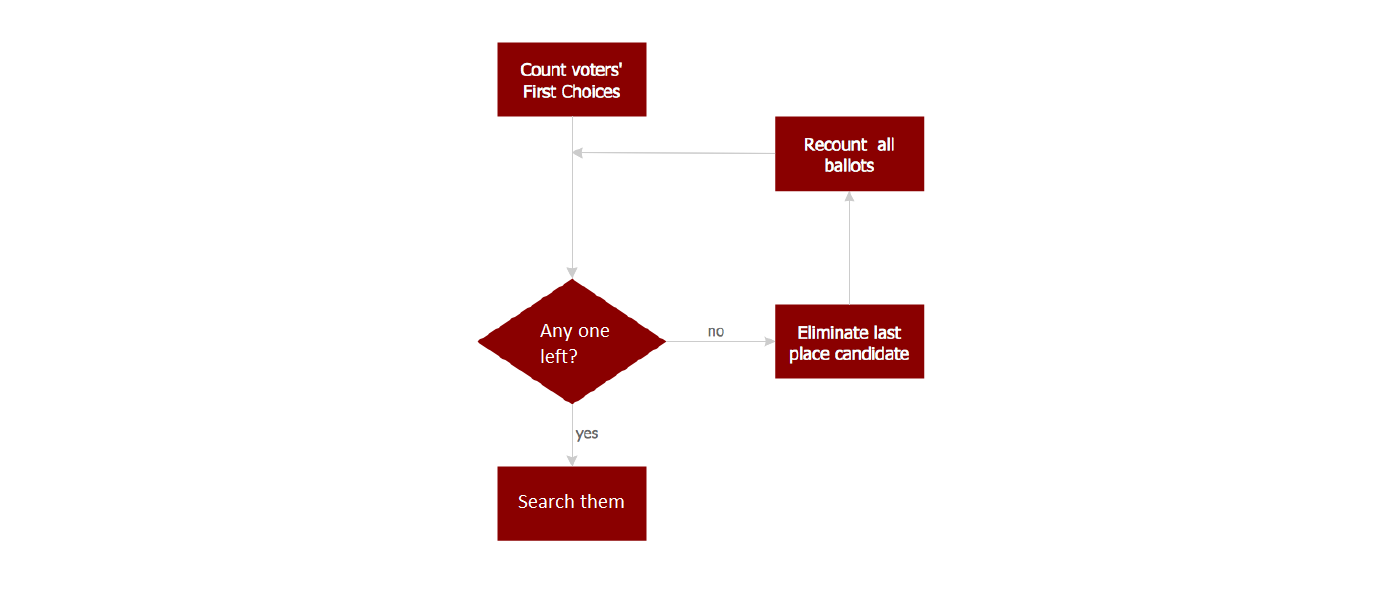arrow: (566, 143, 779, 165), (562, 116, 582, 281), (841, 188, 858, 308), (662, 336, 784, 350), (563, 401, 583, 468)
decision: (475, 277, 670, 403)
process: (493, 37, 652, 122), (493, 463, 653, 546), (772, 301, 929, 384), (772, 112, 928, 194)
text: (787, 319, 913, 365), (515, 54, 624, 102), (800, 133, 898, 175), (535, 318, 611, 368), (514, 489, 624, 512), (701, 323, 732, 340), (573, 425, 600, 444)
